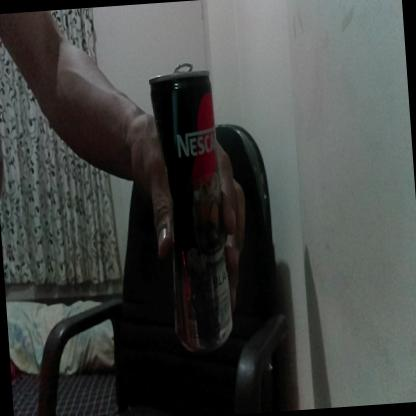alumunium_can: (144, 55, 235, 354)
